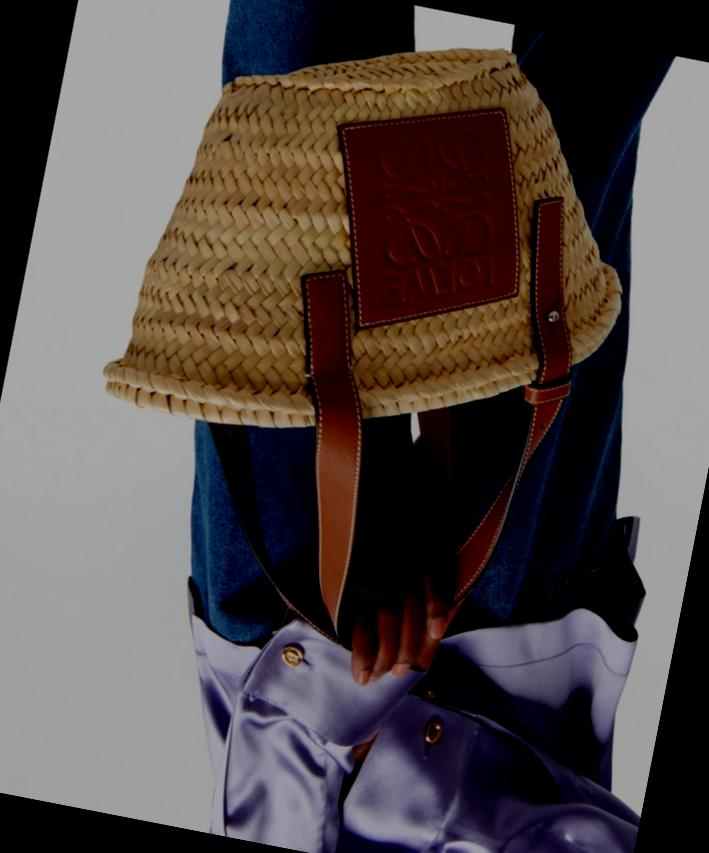LOEWE: (336, 86, 534, 295)
